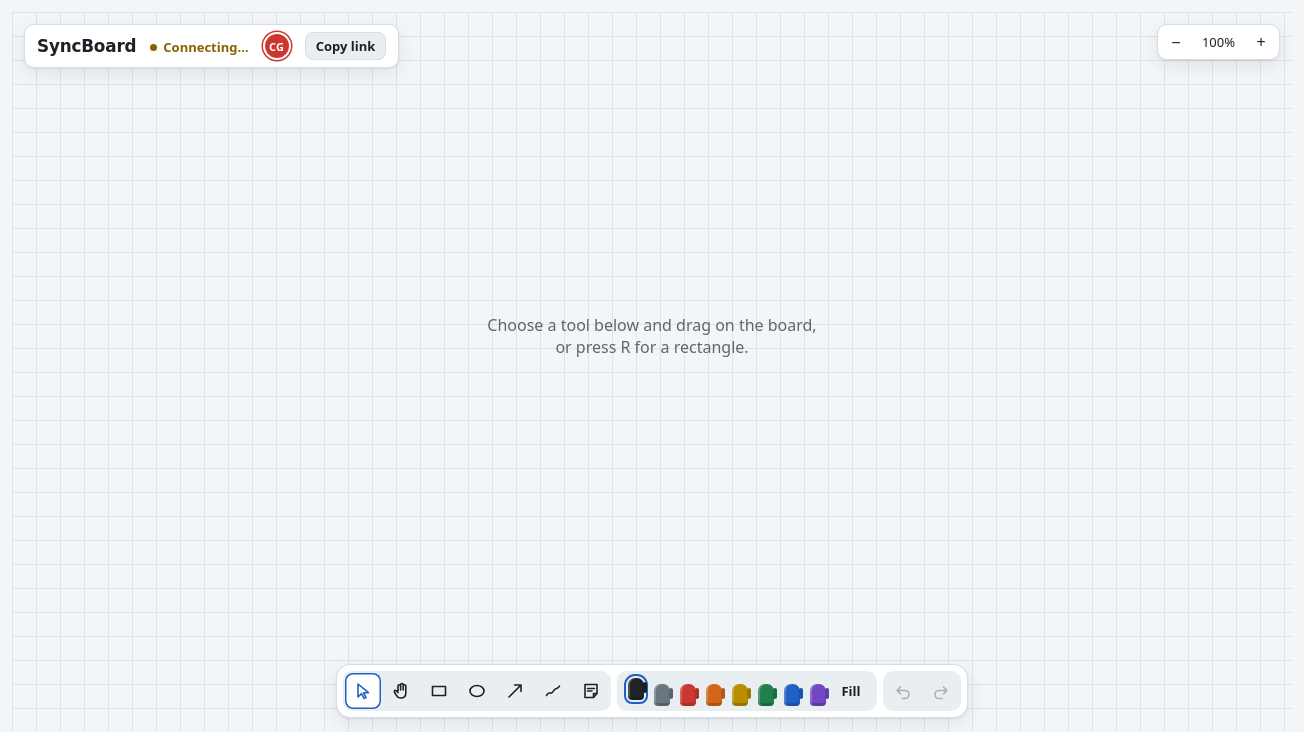
copy link › without a clipboard (plain HTTP), says what to do instead
Click the button "Copy link": (345, 46) [305, 32, 386, 60]
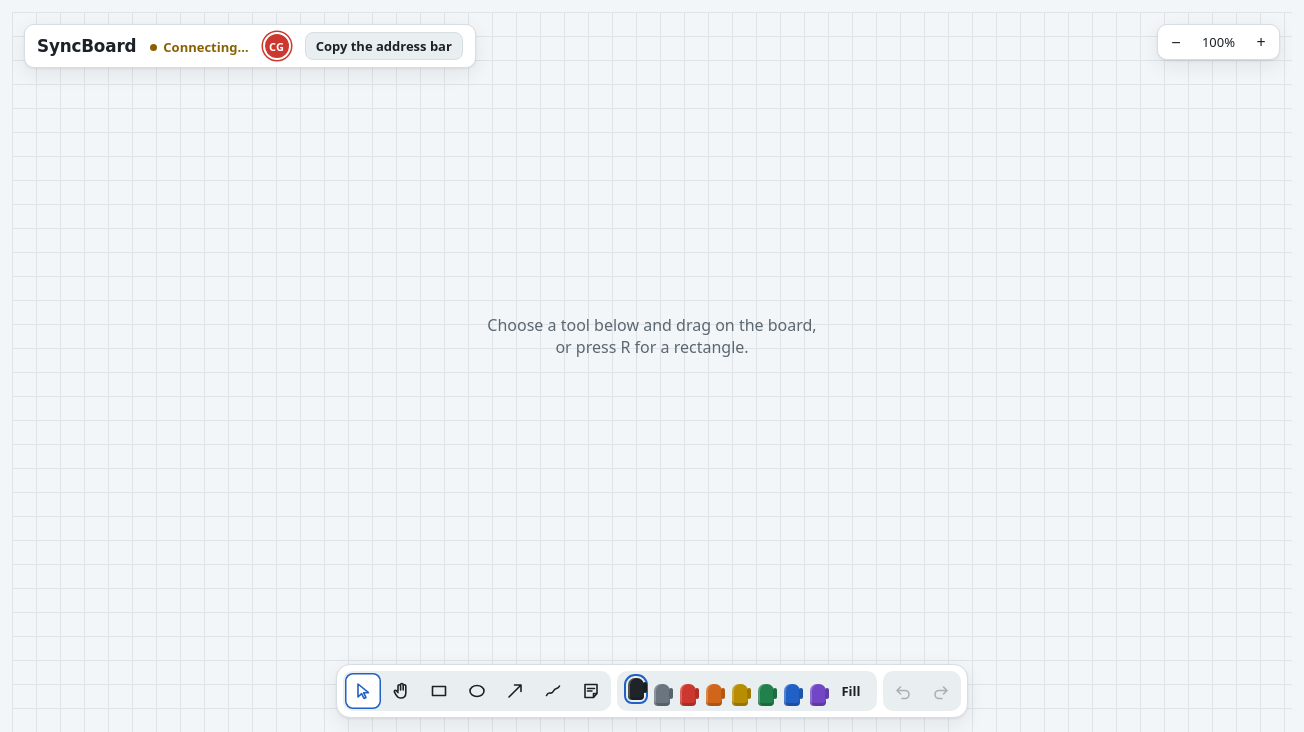
Check: the button "Copy the address bar" is shown, box [305, 32, 463, 60]
